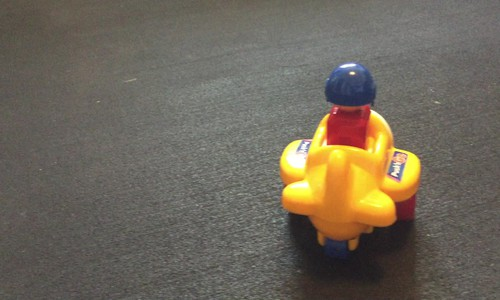toy: (273, 64, 427, 266)
